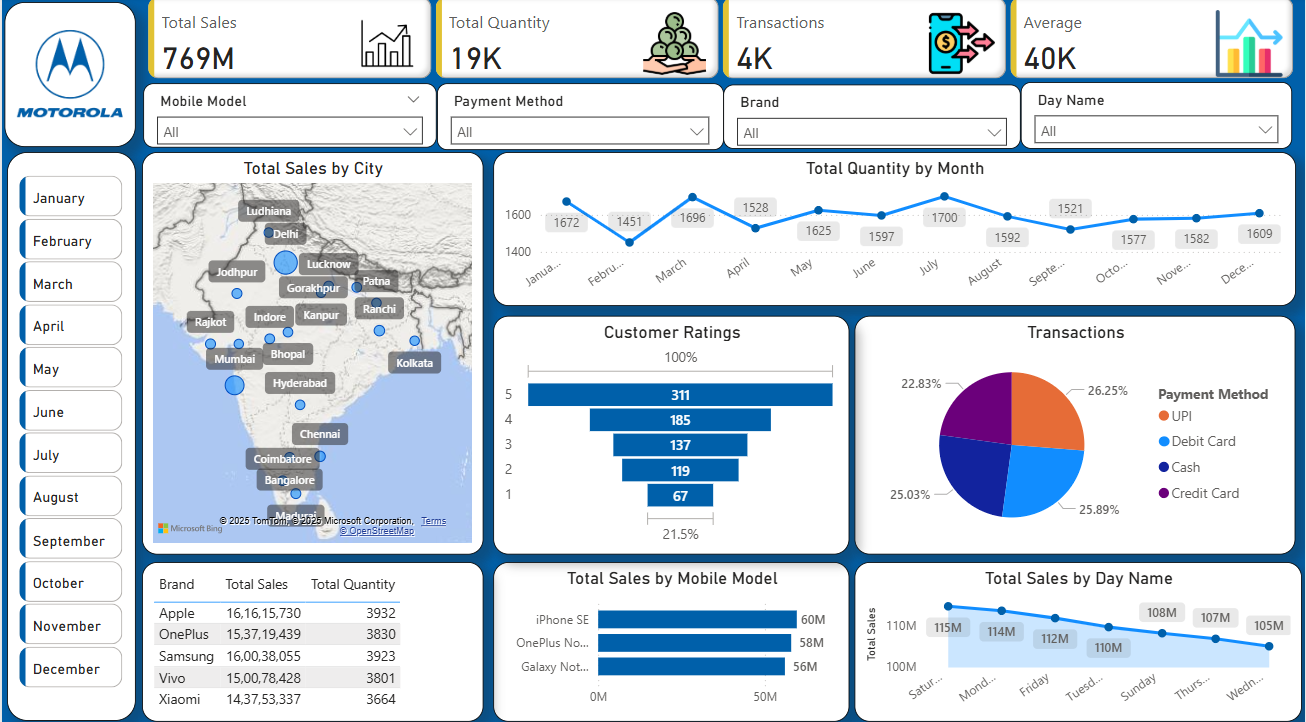

The page's visual inventory and layout, read from the dashboard file:
{"tool":"powerbi","page":{"name":"Page 1","canvas":[1280,720],"ordinal":0},"visuals":[{"type":"shape","box":[2.7,5.5,129,142.7],"z":0},{"type":"image","box":[9.8,18.4,114.1,114.1],"z":1000},{"type":"shape","box":[5.5,152.3,126.2,558.5],"z":2000},{"type":"advancedSlicerVisual","fields":{"Values":["Sales Data.Date.Variation.Date Hierarchy.Month"]},"box":[12.3,170.2,111.1,516],"z":3000},{"type":"cardVisual","fields":{"Data":["Sales Data.Total Sales","Sales Data.Total Quantity","Sales Data.Transactions","Sales Data.Average"]},"box":[138.6,0,1137.6,86.4],"z":4000},{"type":"map","fields":{"Category":["Sales Data.City"],"Size":["Sales Data.Total Sales"]},"box":[137.2,152.3,334.8,395.2],"z":5000},{"type":"lineChart","fields":{"Category":["Sales Data.Date.Variation.Date Hierarchy.Month","Sales Data.Date.Variation.Date Hierarchy.Day"],"Y":["Sales Data.Total Quantity"]},"box":[481.6,152.3,787.7,150.9],"z":6000},{"type":"clusteredBarChart","fields":{"Category":["Sales Data.Mobile Model"],"Y":["Sales Data.Total Sales"]},"box":[481.6,554.4,349.9,156.4],"z":7000},{"type":"pieChart","title":"Transactions ","fields":{"Y":["Sales Data.Transactions"],"Category":["Sales Data.Payment Method"]},"box":[836.8,312.9,433.1,234.4],"z":8000},{"type":"funnel","title":"Customer Ratings ","fields":{"Category":["Sales Data.Customer Ratings"],"Y":["CountNonNull(Sales Data.Customer Ratings)"]},"box":[481.6,312.9,349.9,234.6],"z":9000},{"type":"areaChart","fields":{"Category":["Sales Data.Day Name"],"Y":["Sales Data.Total Sales"]},"box":[837.1,554.4,439.1,156.4],"z":10000},{"type":"tableEx","fields":{"Values":["Sales Data.Brand","Sales Data.Total Sales","Sales Data.Total Quantity"]},"box":[137.2,554.4,334.8,156.4],"z":11000},{"type":"slicer","fields":{"Values":["Sales Data.Mobile Model"]},"box":[138.6,85.1,288.2,63.1],"z":12000},{"type":"slicer","fields":{"Values":["Sales Data.Payment Method"]},"box":[426.8,85.1,281.3,65.9],"z":13000},{"type":"slicer","fields":{"Values":["Sales Data.Brand"]},"box":[708.1,86.4,292.3,63.1],"z":14000},{"type":"slicer","fields":{"Values":["Sales Data.Day Name"]},"box":[1000.3,83.7,266.2,65.9],"z":15000}]}

Visuals, with their boxes in screenshot pixels (x1, y1, x2, y2), scaled from the page's 1280x720 canvas onto the 1306x722 screenshot:
shape: <region>3, 6, 134, 149</region>
image: <region>10, 18, 126, 133</region>
shape: <region>6, 153, 134, 713</region>
advancedSlicerVisual - Sales Data.Date.Variation.Date Hierarchy.Month: <region>13, 171, 126, 688</region>
cardVisual - Sales Data.Total Sales x Sales Data.Total Quantity: <region>141, 0, 1302, 87</region>
map - Sales Data.City x Sales Data.Total Sales: <region>140, 153, 482, 549</region>
lineChart - Sales Data.Date.Variation.Date Hierarchy.Month x Sales Data.Date.Variation.Date Hierarchy.Day: <region>491, 153, 1295, 304</region>
clusteredBarChart - Sales Data.Mobile Model x Sales Data.Total Sales: <region>491, 556, 848, 713</region>
"Transactions " pieChart: <region>854, 314, 1296, 549</region>
"Customer Ratings " funnel: <region>491, 314, 848, 549</region>
areaChart - Sales Data.Day Name x Sales Data.Total Sales: <region>854, 556, 1302, 713</region>
tableEx - Sales Data.Brand x Sales Data.Total Sales: <region>140, 556, 482, 713</region>
slicer - Sales Data.Mobile Model: <region>141, 85, 435, 149</region>
slicer - Sales Data.Payment Method: <region>435, 85, 722, 151</region>
slicer - Sales Data.Brand: <region>722, 87, 1021, 150</region>
slicer - Sales Data.Day Name: <region>1021, 84, 1292, 150</region>
